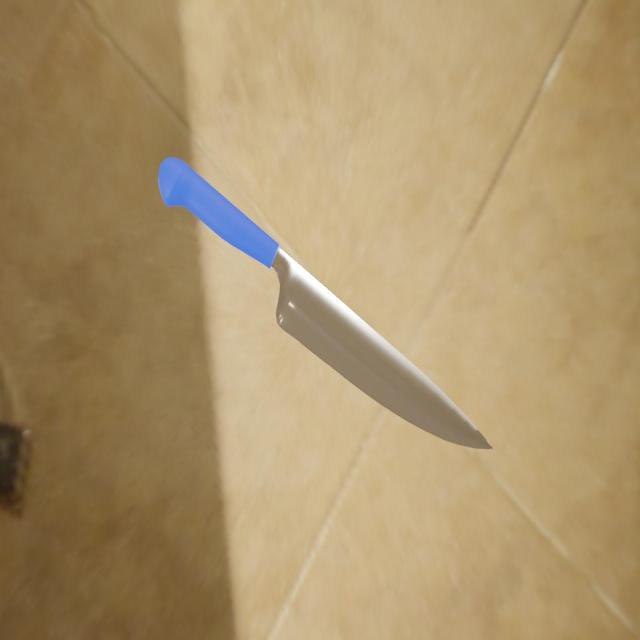knife: (158, 156, 280, 269)
